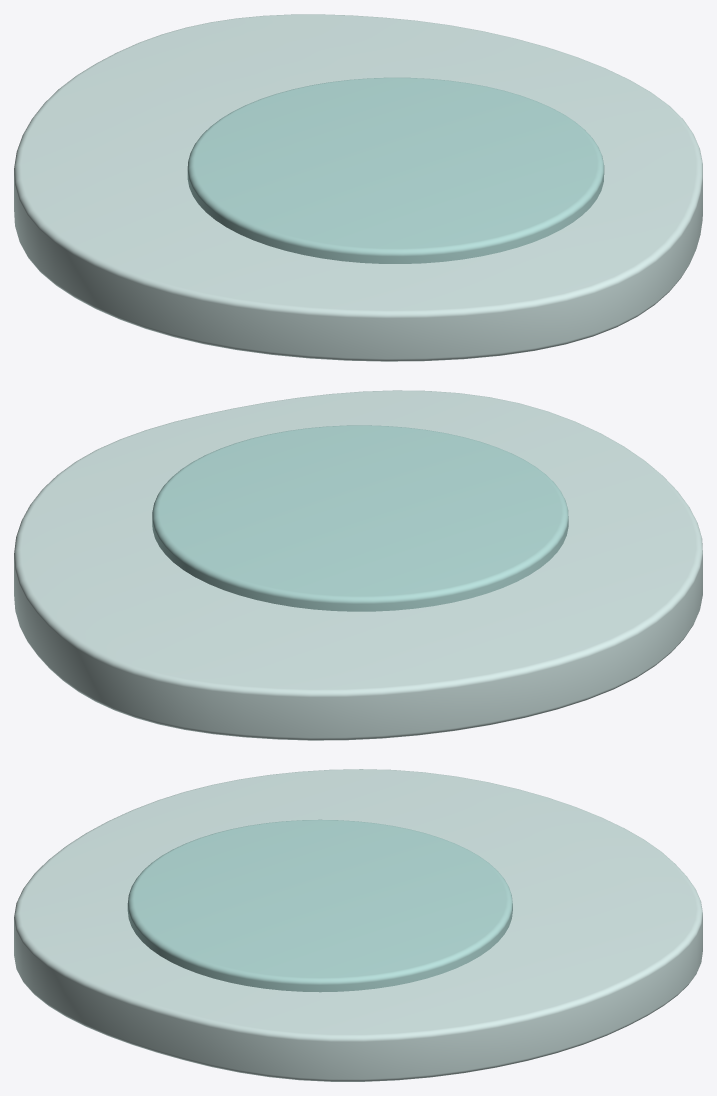
Rendered from T_Lymfocytt.fbx.
The picture shows the model from 3 angles, top to bottom: view 1: azimuth 30°, elevation 25°; view 2: azimuth 150°, elevation 25°; view 3: azimuth 270°, elevation 25°; orthographic projection. The views are drawn at different scales.
Visible parts, largest first — view 1: Cylinder.026, Cylinder.027; view 2: Cylinder.026, Cylinder.027; view 3: Cylinder.026, Cylinder.027.
Part boxes in pixels (x1,y1,x2,y2): Cylinder.026: (14,14,702,361); Cylinder.027: (187,77,604,263); Cylinder.026: (14,390,702,740); Cylinder.027: (152,425,568,611); Cylinder.026: (14,769,702,1081); Cylinder.027: (127,819,512,992).
Bounding box in the file's own units: 199 × 24 × 215.
